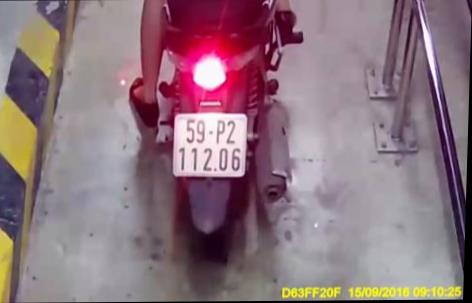LP: (173, 113, 248, 177)
